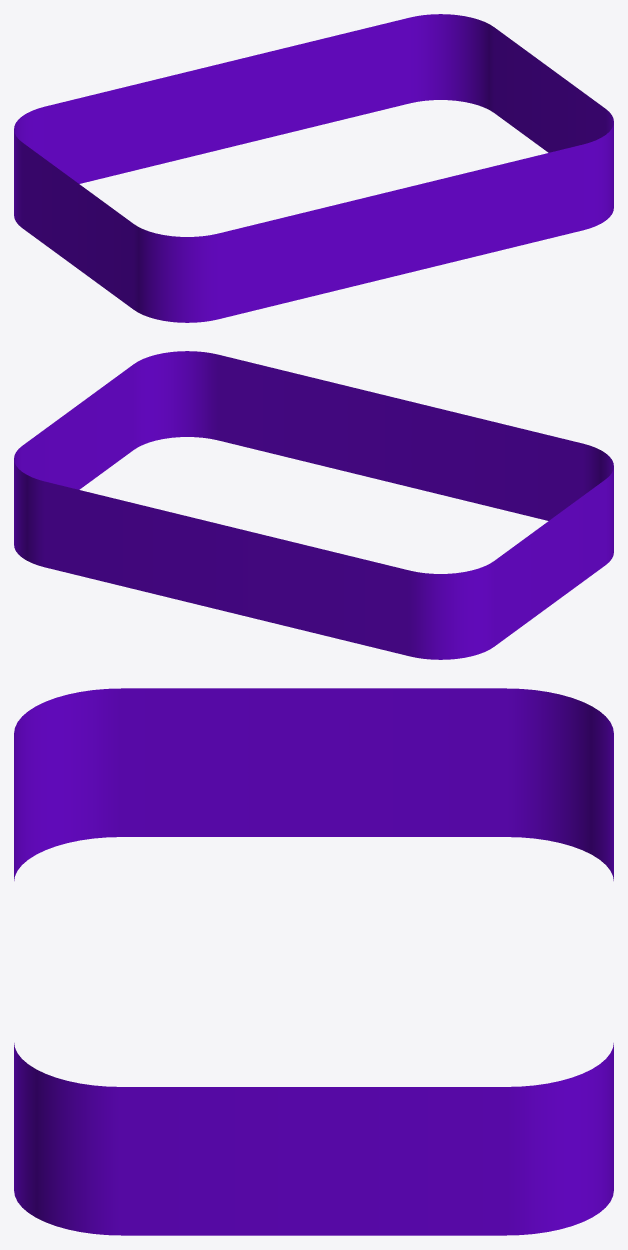
The model's file is original-25.obj.
3 views of the same model, one above another, from view 1: azimuth 30°, elevation 25°; view 2: azimuth 150°, elevation 25°; view 3: azimuth 270°, elevation 25° (orthographic). The views are drawn at different scales.
Parts seen in each view (by area): view 1: mesh22/mesh22-geometry#mesh22-geometry; view 2: mesh22/mesh22-geometry#mesh22-geometry; view 3: mesh22/mesh22-geometry#mesh22-geometry.
Part boxes in pixels (x1,y1,x2,y2): mesh22/mesh22-geometry#mesh22-geometry: [14, 14, 613, 322]; mesh22/mesh22-geometry#mesh22-geometry: [14, 351, 613, 659]; mesh22/mesh22-geometry#mesh22-geometry: [14, 688, 613, 1235].
Bounding box in the file's own units: 0.0642 × 0.0112 × 0.0408.
